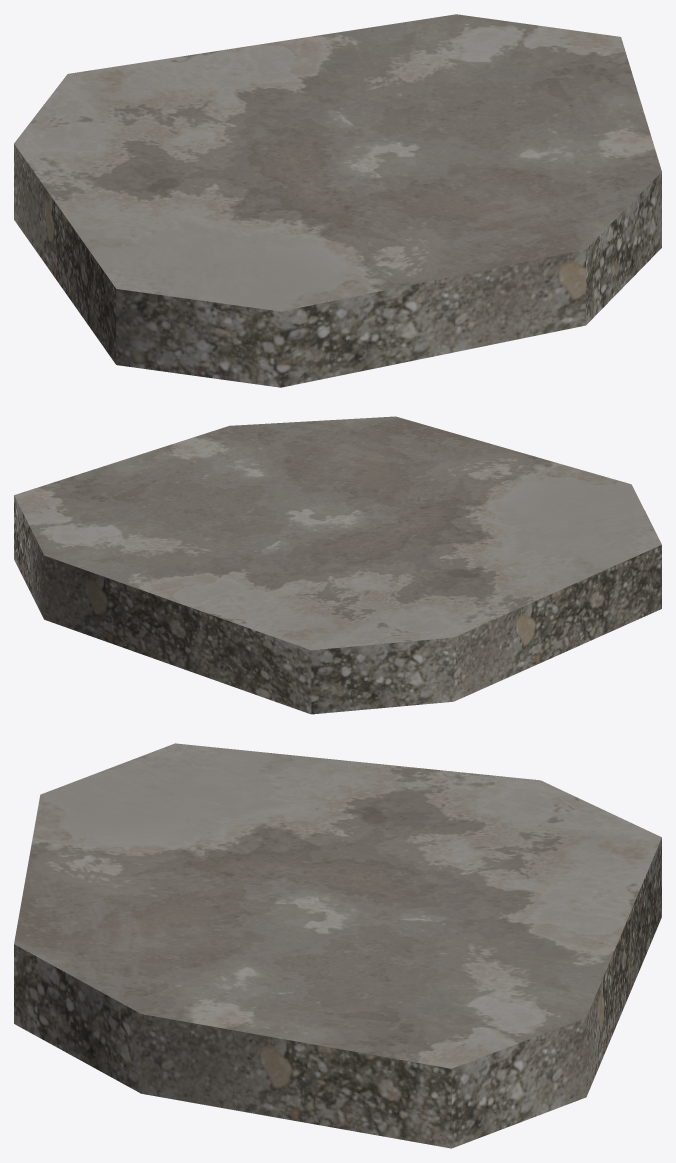
The model's file is Rubble_A.fbx.
3 renders of one model, top to bottom at view 1: azimuth 30°, elevation 25°; view 2: azimuth 150°, elevation 25°; view 3: azimuth 270°, elevation 25°, orthographic. The views are drawn at different scales.
Visible parts, largest first — view 1: Rubble, Broken_Concrete; view 2: Rubble, Broken_Concrete; view 3: Rubble, Broken_Concrete.
Part boxes in pixels (x1,y1,x2,y2): Rubble: (14,14,661,311); Broken_Concrete: (14,144,661,387); Rubble: (14,416,661,650); Broken_Concrete: (14,496,661,714); Rubble: (14,743,661,1068); Broken_Concrete: (14,838,661,1148).
Size of the model in its own units: 175 by 20 by 147.
